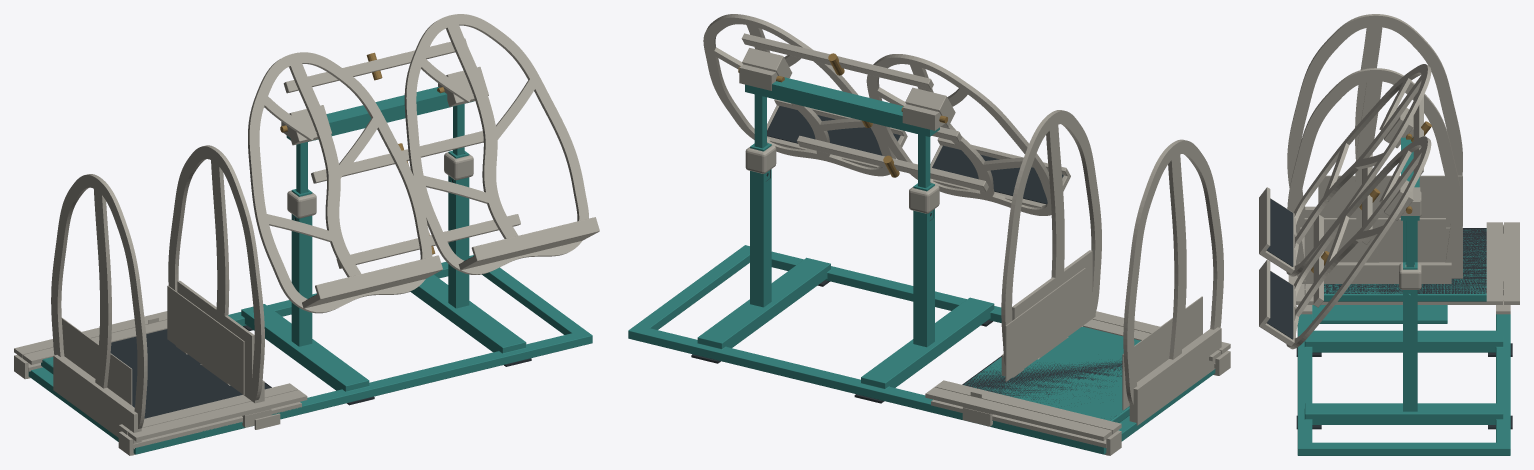
File: V017-lightweight.glb
3 views of the same model, side by side, from view 1: azimuth 30°, elevation 25°; view 2: azimuth 150°, elevation 25°; view 3: azimuth 270°, elevation 25° (orthographic). The views are drawn at different scales.
Parts seen in each view (by area): view 1: unified common structural base, unified flat reading leaf -1, unified flat reading leaf 1, unified fixed organic bookend, opposite sliding organic bookend, continuous smooth book contact surface, smooth sliding root facing, hollow anti rotation sleeve 0.012, moving upper transverse bridge, smooth fixed root facing, flush seam lip -0.068 -1, hollow anti rotation sleeve 0.178 (+18 smaller); view 2: unified common structural base, unified fixed organic bookend, opposite sliding organic bookend, single uninterrupted book support deck, unified flat reading leaf -1, unified flat reading leaf 1, smooth sliding root facing, moving upper transverse bridge, hollow anti rotation sleeve 0.012, hollow anti rotation sleeve 0.178, continuous smooth book contact surface, flush seam lip 0.124 1 (+19 smaller); view 3: unified common structural base, opposite sliding organic bookend, unified fixed organic bookend, unified flat reading leaf 1, unified flat reading leaf -1, single uninterrupted book support deck, continuous smooth book contact surface, smooth fixed root facing, hollow anti rotation sleeve 0.178, flush seam lip 0.124 -1, OPEN tray soft liner 1, OPEN tray soft liner -1 (+17 smaller).
Boxes of the visible parts, bbox=[...] form: unified common structural base: bbox=[28, 255, 592, 454]; unified flat reading leaf -1: bbox=[248, 52, 432, 313]; unified flat reading leaf 1: bbox=[404, 14, 588, 274]; unified fixed organic bookend: bbox=[51, 174, 147, 449]; opposite sliding organic bookend: bbox=[168, 145, 264, 403]; continuous smooth book contact surface: bbox=[110, 329, 271, 418]; smooth sliding root facing: bbox=[167, 285, 244, 394]; hollow anti rotation sleeve 0.012: bbox=[291, 189, 312, 346]; moving upper transverse bridge: bbox=[286, 87, 473, 144]; smooth fixed root facing: bbox=[61, 317, 132, 405]; flush seam lip -0.068 -1: bbox=[128, 390, 307, 441]; hollow anti rotation sleeve 0.178: bbox=[448, 150, 469, 308]; unified common structural base: bbox=[628, 245, 1215, 454]; unified fixed organic bookend: bbox=[1123, 139, 1223, 425]; opposite sliding organic bookend: bbox=[1001, 110, 1101, 377]; single uninterrupted book support deck: bbox=[964, 326, 1140, 422]; unified flat reading leaf -1: bbox=[866, 54, 1051, 215]; unified flat reading leaf 1: bbox=[703, 14, 895, 176]; smooth sliding root facing: bbox=[1005, 268, 1085, 381]; moving upper transverse bridge: bbox=[745, 77, 939, 136]; hollow anti rotation sleeve 0.012: bbox=[913, 183, 934, 347]; hollow anti rotation sleeve 0.178: bbox=[750, 143, 771, 307]; continuous smooth book contact surface: bbox=[962, 356, 1122, 418]; flush seam lip 0.124 1: bbox=[925, 387, 1112, 440]; unified common structural base: bbox=[1297, 305, 1510, 455]; opposite sliding organic bookend: bbox=[1287, 68, 1462, 285]; unified fixed organic bookend: bbox=[1287, 14, 1462, 227]; unified flat reading leaf 1: bbox=[1286, 136, 1431, 349]; unified flat reading leaf -1: bbox=[1286, 64, 1431, 276]; single uninterrupted book support deck: bbox=[1323, 229, 1486, 301]; continuous smooth book contact surface: bbox=[1324, 228, 1486, 293]; smooth fixed root facing: bbox=[1318, 175, 1462, 226]; hollow anti rotation sleeve 0.178: bbox=[1403, 262, 1417, 411]; flush seam lip 0.124 -1: bbox=[1486, 222, 1502, 304]; OPEN tray soft liner 1: bbox=[1267, 271, 1293, 339]; OPEN tray soft liner -1: bbox=[1267, 198, 1293, 266].
Size of the model in its own units: 0.4971 by 0.3011 by 0.2524.
